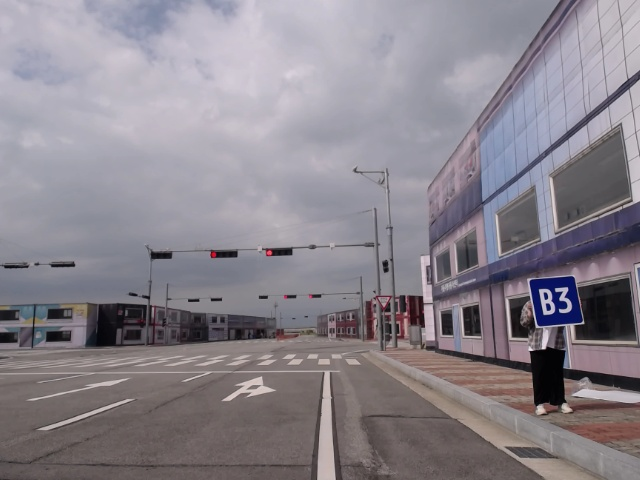delivery_b3: (528, 277, 584, 329)
red_4: (206, 247, 240, 259), (266, 246, 293, 258), (307, 292, 324, 301), (282, 293, 299, 301)
